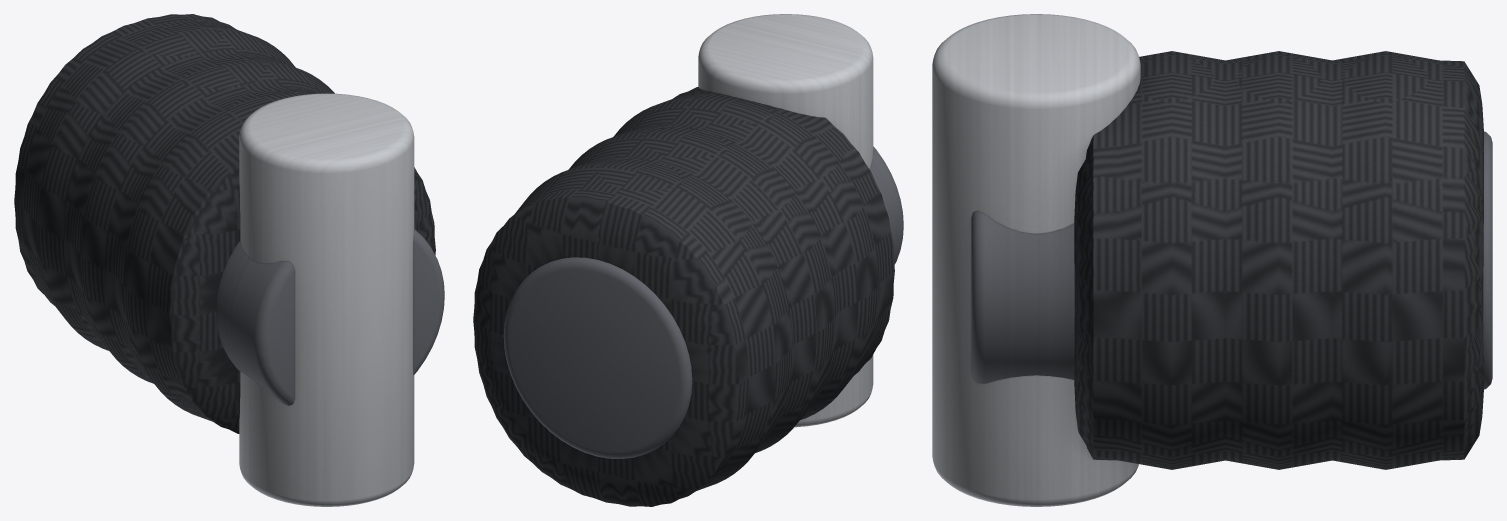
The model's file is neck_v2.obj.
The picture shows the model from 3 angles, left to right: view 1: azimuth 30°, elevation 25°; view 2: azimuth 150°, elevation 25°; view 3: azimuth 270°, elevation 25°; orthographic projection. The views are drawn at different scales.
Visible parts, largest first — view 1: neck; view 2: neck; view 3: neck.
Boxes of the visible parts, x1,y1,x2,y2 form: neck: (14,14,444,506); neck: (473,14,903,506); neck: (932,14,1492,506).
Bounding box in the file's own units: 0.0591 × 0.07 × 0.086.
Materials: 1 (1 with a texture image).
